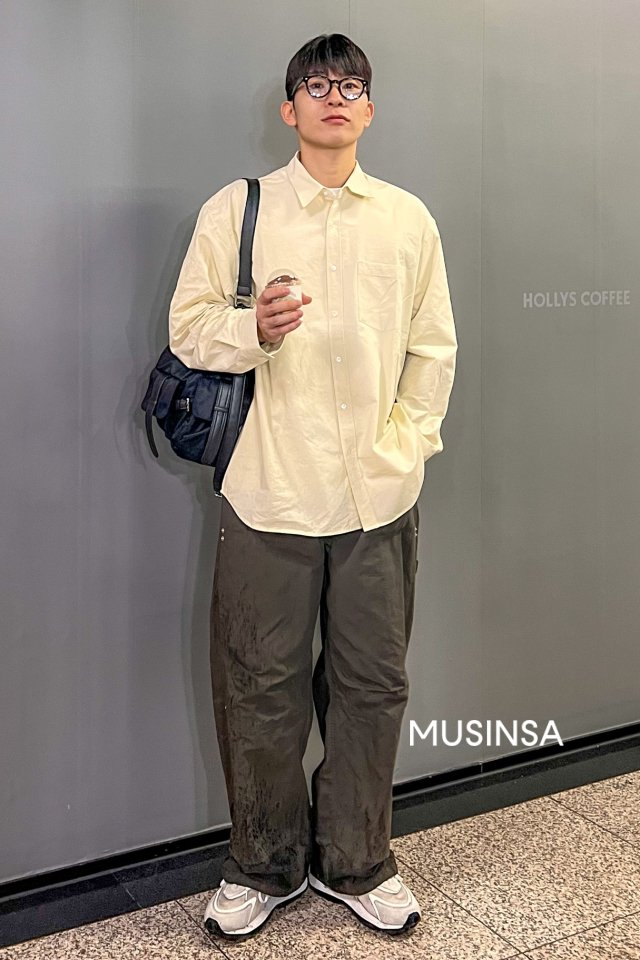Bag: (136, 173, 268, 474)
Glasses: (286, 75, 373, 98)
Pants: (205, 476, 404, 895)
Shirt: (187, 155, 466, 535)
Shoes: (199, 858, 428, 936)
